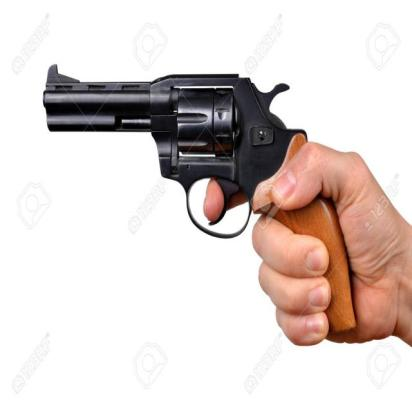Gun: (41, 53, 361, 338)
